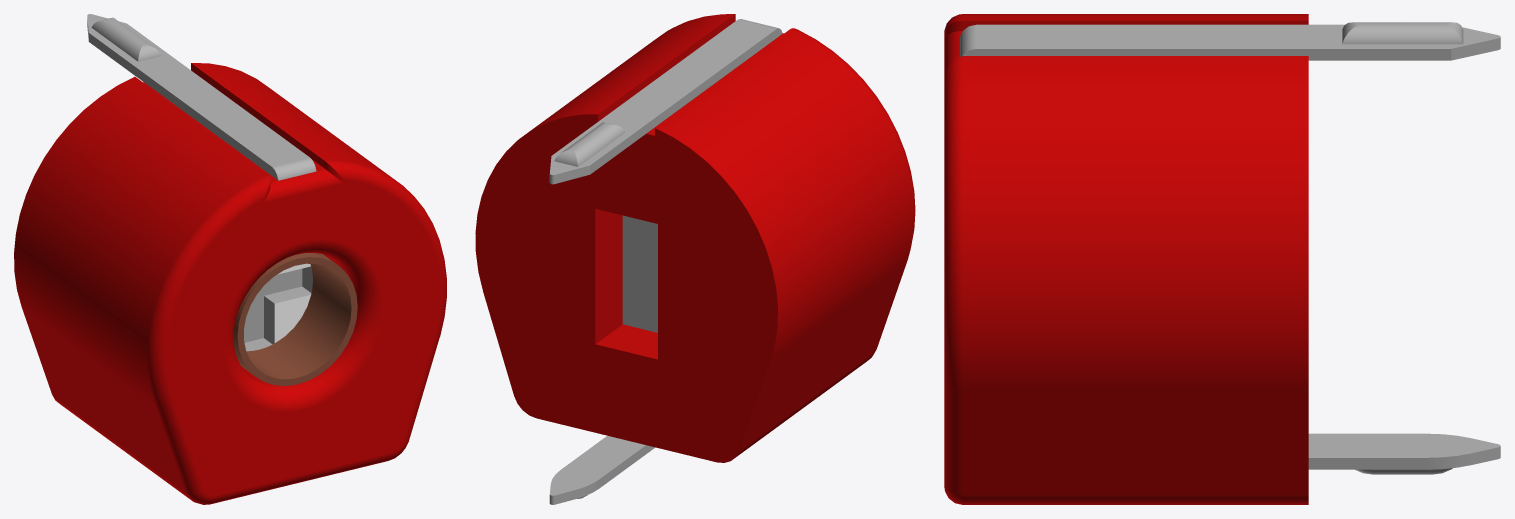
File: Trimmer Cap - Red - 20pf.obj
The picture shows the model from 3 angles, left to right: view 1: azimuth 30°, elevation 25°; view 2: azimuth 150°, elevation 25°; view 3: azimuth 270°, elevation 25°; orthographic projection. The views are drawn at different scales.
Parts seen in each view (by area): view 1: Solid1; view 2: Solid1; view 3: Solid1.
Boxes of the visible parts, x1=… form: Solid1: x1=14, y1=14, x2=446, y2=504; Solid1: x1=475, y1=14, x2=915, y2=504; Solid1: x1=944, y1=14, x2=1500, y2=504.
Size of the model in its own units: 6.09 by 6.76 by 7.61.
